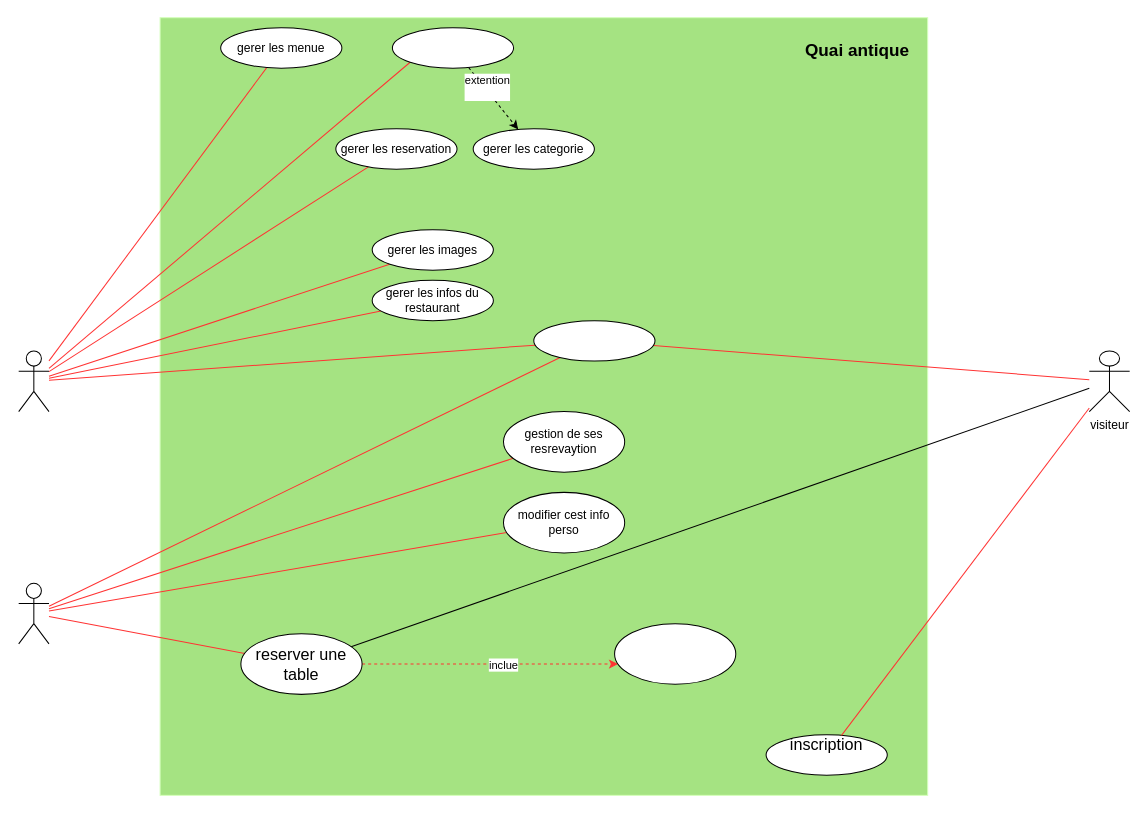
This 1147x813 diagram has some shape labels left out. Each missing label, with the centre of its shape:
"admin" goes at (33,381).
"afficher la carte" goes at (594,340).
"client" goes at (33,613).
"connexion" goes at (675,653).
"gerer les plats" goes at (452,47).
